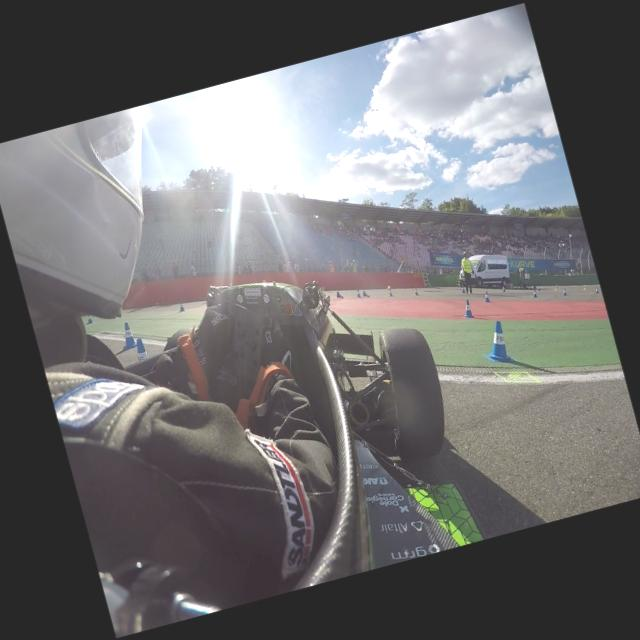blue_cone: (480, 318, 514, 368), (118, 320, 138, 350), (132, 338, 148, 360), (460, 298, 474, 320), (84, 310, 94, 324), (482, 290, 491, 303), (177, 299, 186, 312), (335, 290, 343, 299), (354, 288, 360, 298), (362, 290, 369, 298), (532, 289, 538, 297), (413, 287, 419, 295), (460, 286, 466, 292), (562, 288, 566, 296), (388, 288, 392, 296), (501, 285, 505, 292), (594, 287, 598, 293), (536, 285, 540, 291)
yellow_cone: (554, 284, 558, 290), (582, 284, 586, 290), (387, 284, 390, 288)
